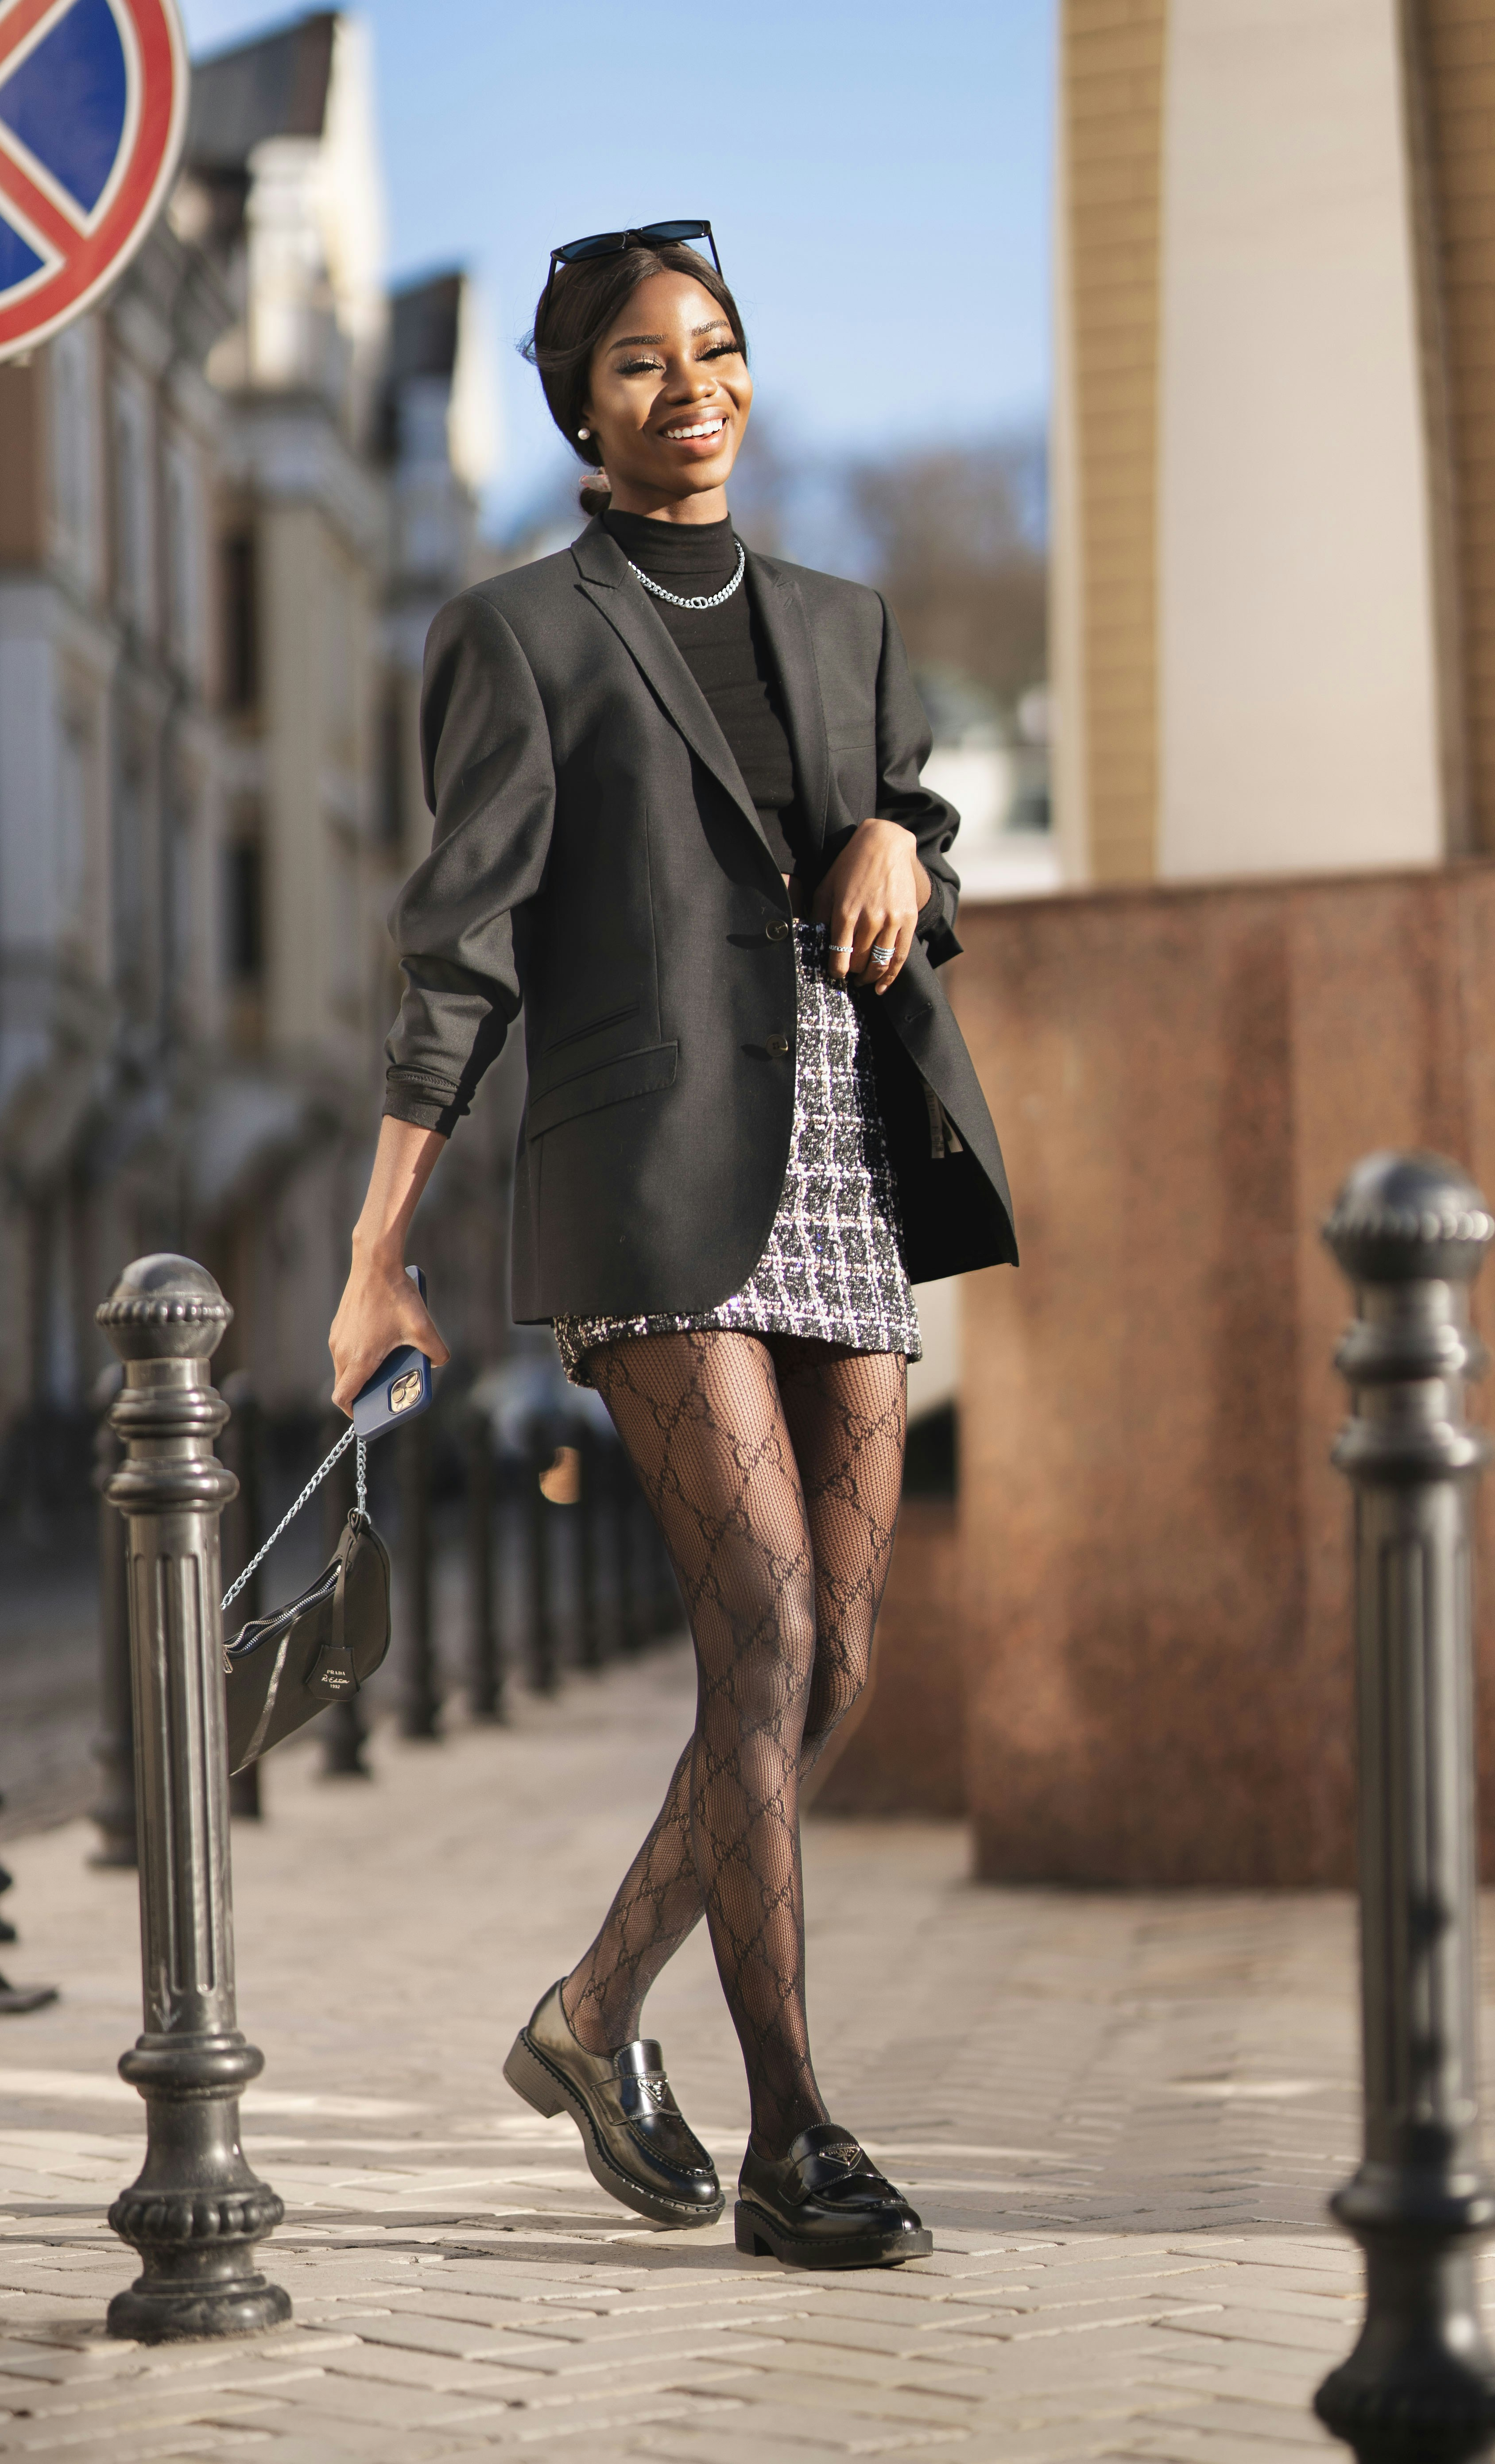Footwear: (447, 1929, 733, 2258), (717, 2064, 967, 2290)
